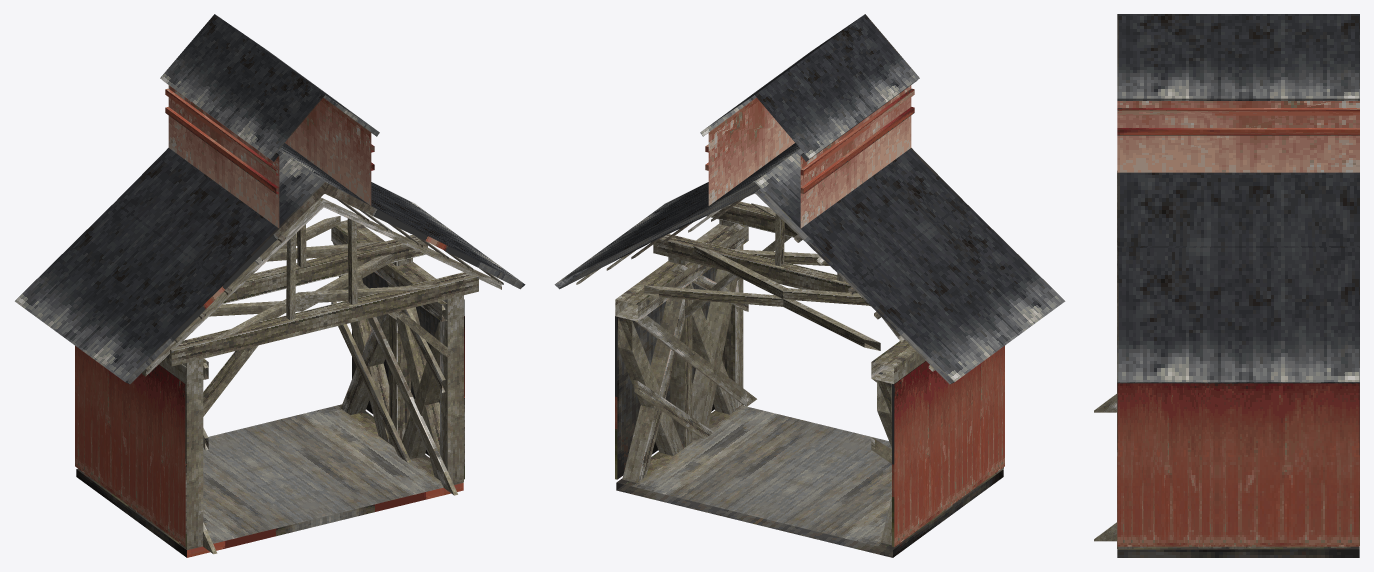
Rendered from 4_b3_end_right_01.glb.
3 renders of one model, left to right at view 1: azimuth 30°, elevation 25°; view 2: azimuth 150°, elevation 25°; view 3: azimuth 270°, elevation 25°, orthographic. The views are drawn at different scales.
Parts seen in each view (by area): view 1: 4_b3_end_right_01; view 2: 4_b3_end_right_01; view 3: 4_b3_end_right_01.
Part boxes in pixels (x1=…): 4_b3_end_right_01: x1=15, y1=14, x2=525, y2=557; 4_b3_end_right_01: x1=554, y1=14, x2=1065, y2=557; 4_b3_end_right_01: x1=1094, y1=14, x2=1359, y2=557.
Bounding box in the file's own units: 8.69 × 8.91 × 4.56.
Materials: 1 (1 with a texture image).
